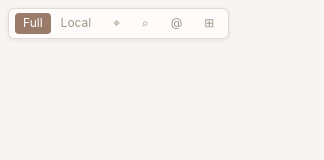
Test case: GraphView › switching to local mode shows depth controls and fetches subgraph
Click the button "Local". click: x=76, y=23
box: [53, 13, 99, 34]
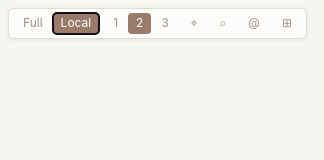
Expected: the button "2" is shown, [128, 13, 151, 34]
